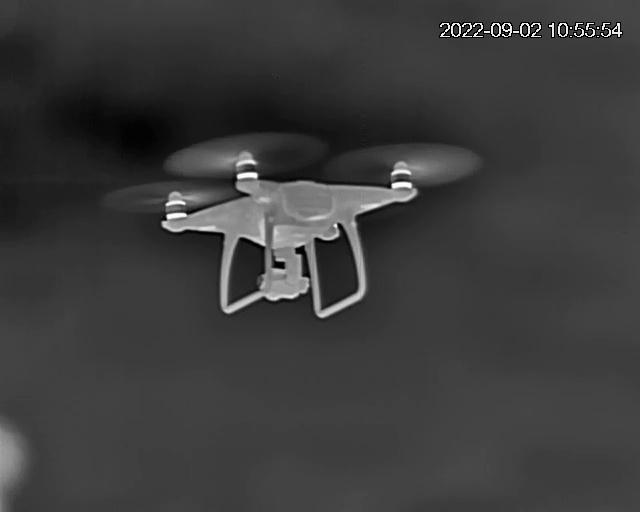DJI-Phantom: (125, 132, 468, 318)
